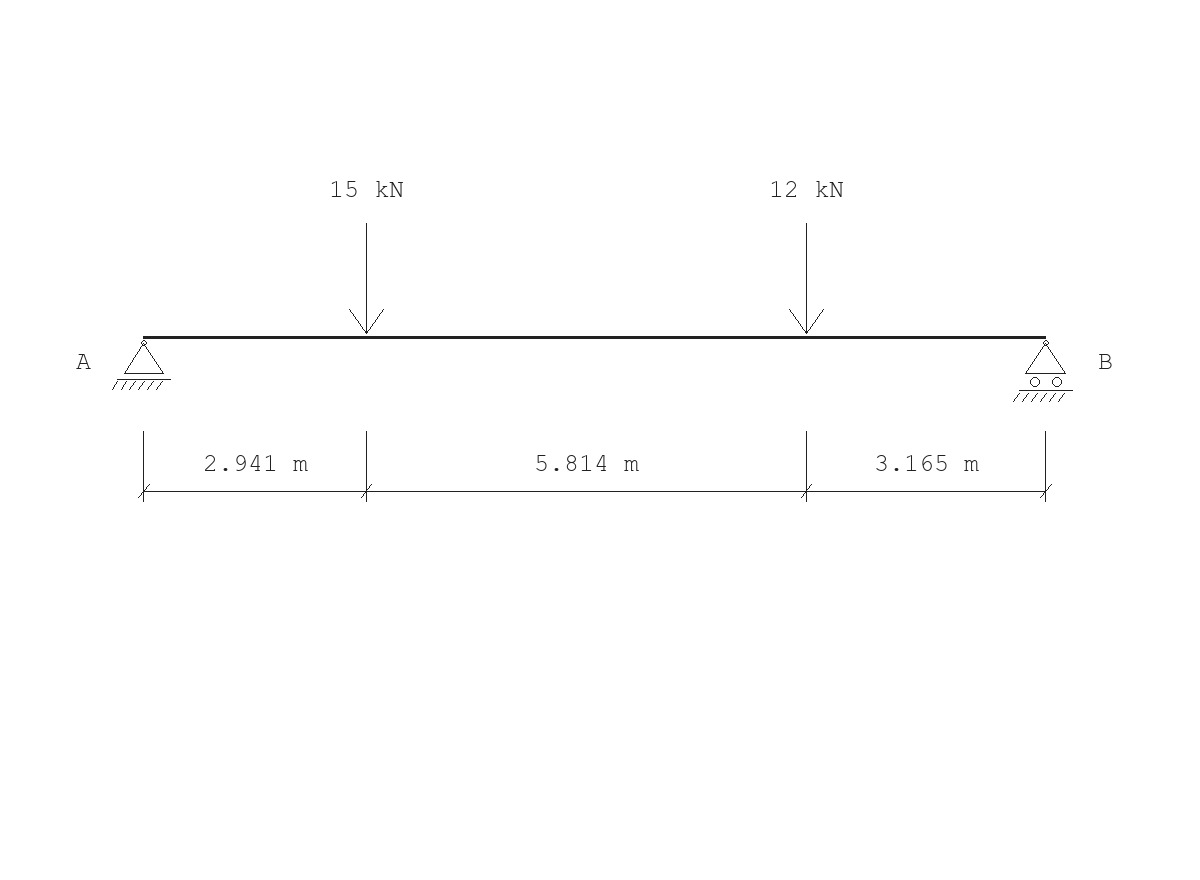pin_support: (112, 340, 171, 390)
point_load: (349, 223, 384, 334), (789, 223, 824, 334)
roller_support: (1013, 340, 1073, 402)
